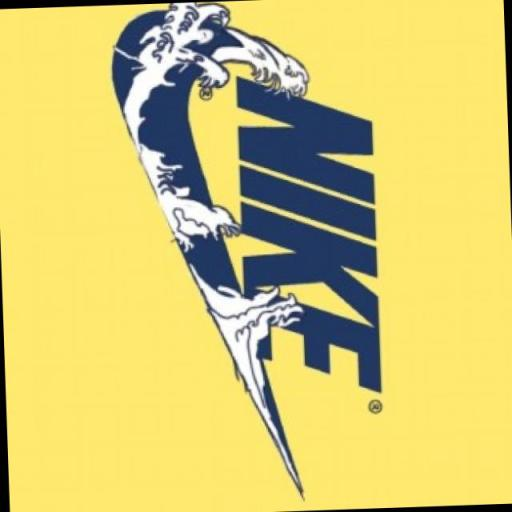Nike: (106, 3, 307, 509), (230, 70, 383, 404)
